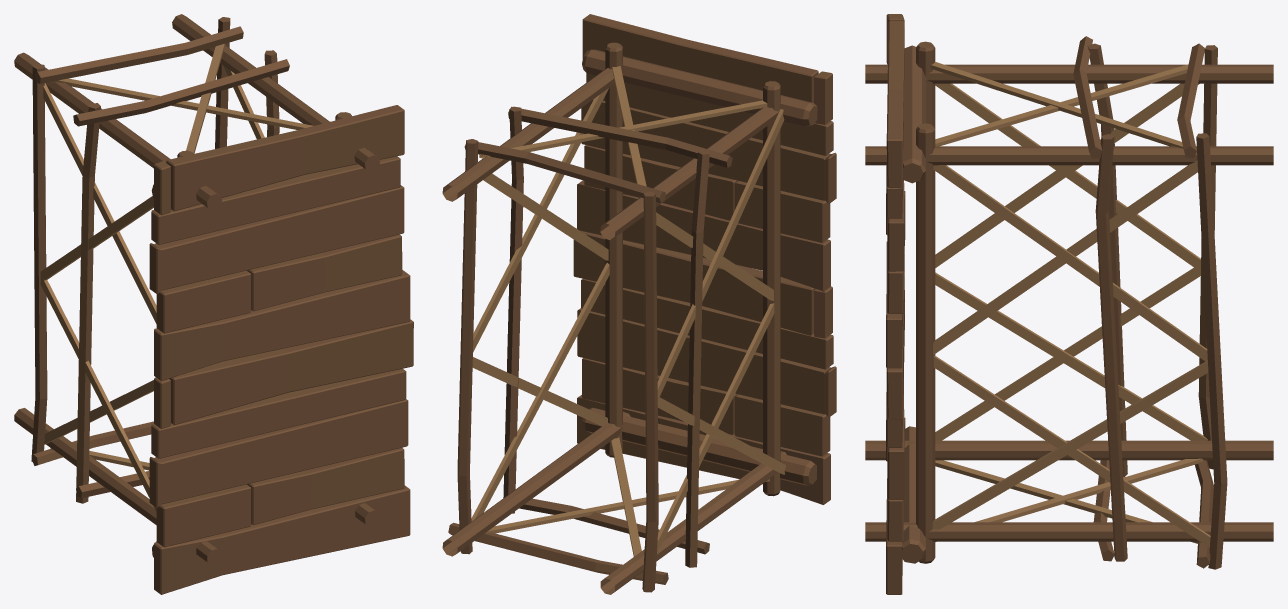
The model's file is Tower_01.fbx.
3 renders of one model, left to right at view 1: azimuth 30°, elevation 25°; view 2: azimuth 150°, elevation 25°; view 3: azimuth 270°, elevation 25°, orthographic. The views are drawn at different scales.
Parts seen in each view (by area): view 1: tour; view 2: tour; view 3: tour.
Part boxes in pixels (x1,y1,x2,y2): tour: [14, 14, 413, 594]; tour: [442, 14, 836, 594]; tour: [865, 14, 1273, 594].
Bounding box in the file's own units: 323 × 513 × 419.
